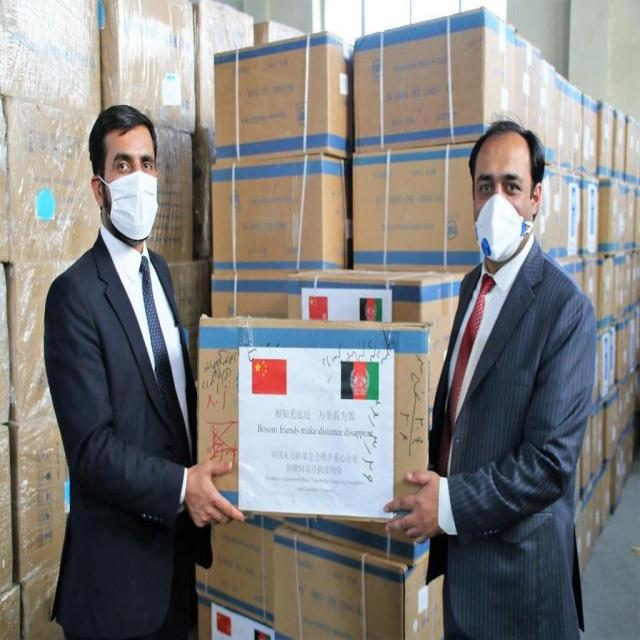Mask: (477, 193, 525, 261), (110, 169, 157, 238)
